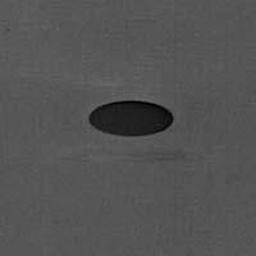Punching: (88, 100, 174, 138)
